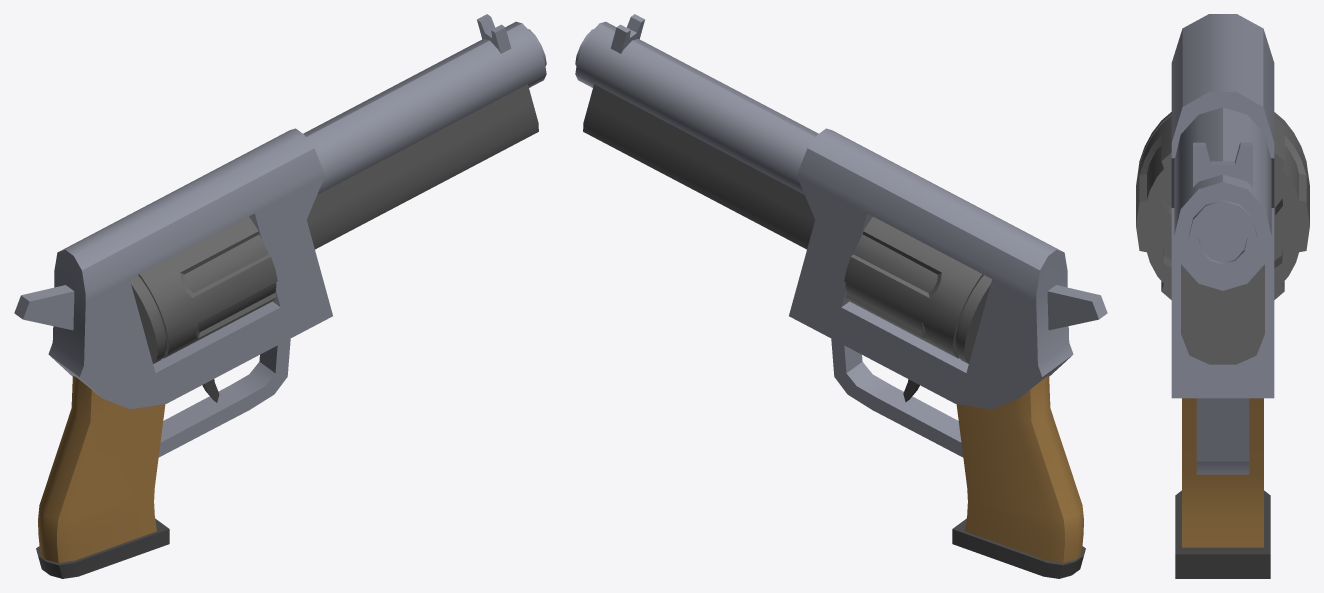
The model's file is revolver.glb.
3 renders of one model, left to right at view 1: azimuth 30°, elevation 25°; view 2: azimuth 150°, elevation 25°; view 3: azimuth 270°, elevation 25°, orthographic. The views are drawn at different scales.
Visible parts, largest first — view 1: Cube016_1, Cube016, Cube016_3, Cube016_2; view 2: Cube016_1, Cube016, Cube016_3, Cube016_2; view 3: Cube016_1, Cube016, Cube016_3, Cube016_2.
Part boxes in pixels (<box>): Cube016_1: <box>14,14,546,457</box>; Cube016: <box>130,84,538,363</box>; Cube016_3: <box>38,376,165,562</box>; Cube016_2: <box>36,379,219,578</box>; Cube016_1: <box>575,14,1107,457</box>; Cube016: <box>583,84,991,363</box>; Cube016_3: <box>956,376,1083,562</box>; Cube016_2: <box>903,379,1085,578</box>; Cube016_1: <box>1171,14,1274,474</box>; Cube016: <box>1136,112,1309,364</box>; Cube016_3: <box>1182,398,1263,547</box>; Cube016_2: <box>1175,490,1270,578</box>.
Size of the model in its own units: 8.17 by 6.61 by 1.43.
